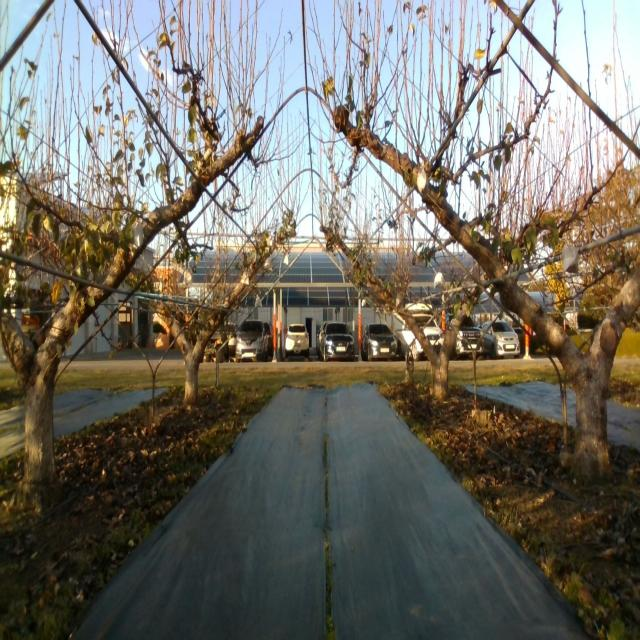pearbags: (562, 244, 579, 273), (433, 271, 446, 290)
